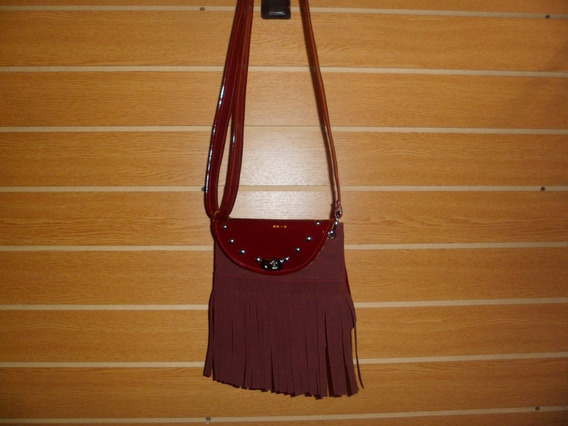cartera: (203, 1, 363, 399)
